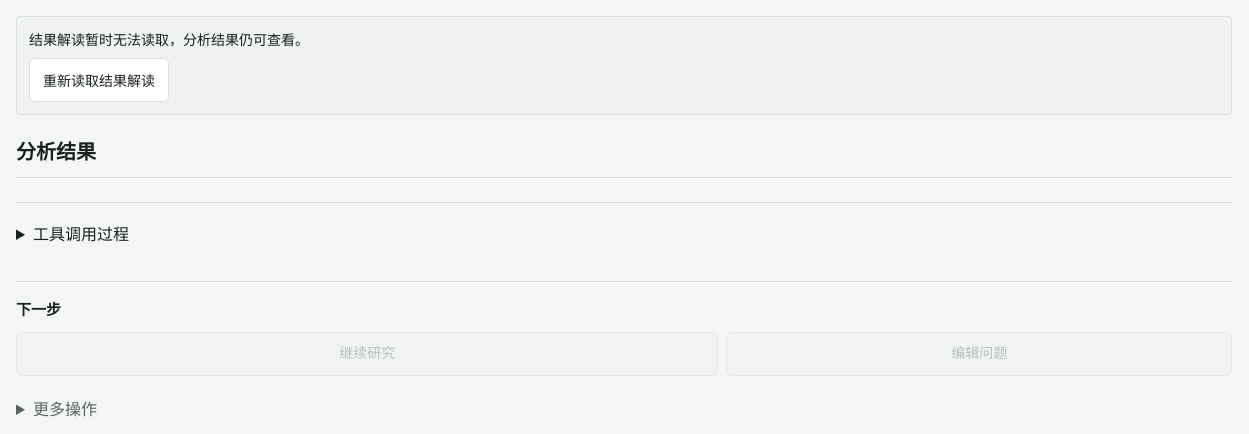
Test: Agent2ScientificPresentation › retains the scientific presentation while recovering only its interpretation
Step 1. Click the button "重新读取结果解读" → [99, 80], box x1=29 y1=58 x2=169 y2=102
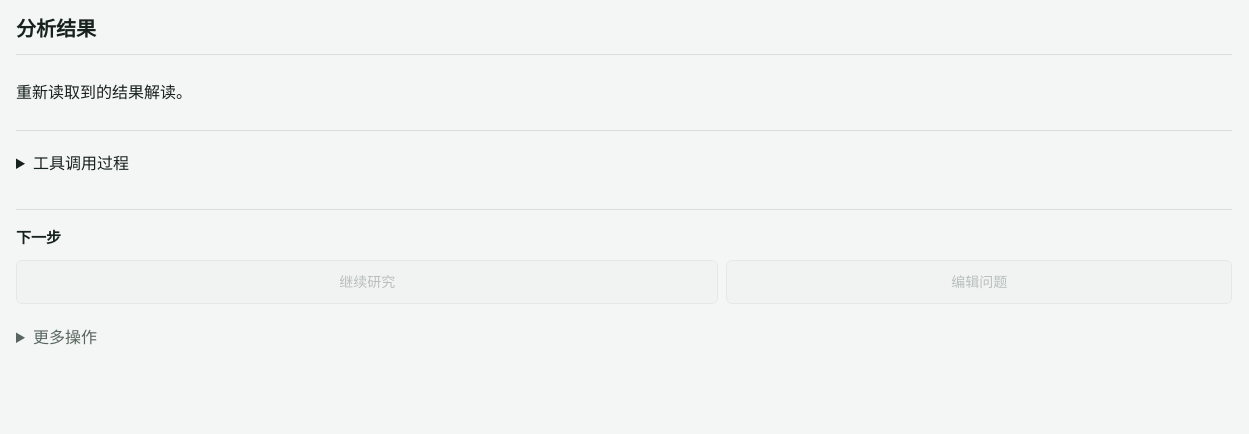
Check: the text "重新读取到的结果解读。" is shown, box x1=16 y1=82 x2=192 y2=102
